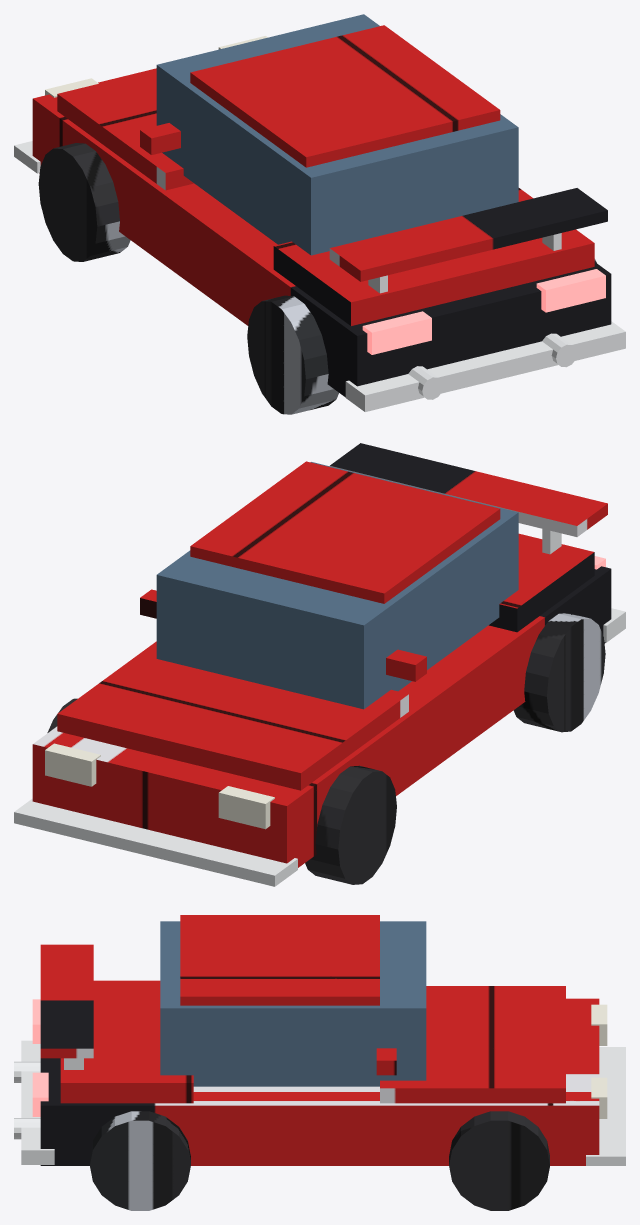
Rendered from Car.fbx.
3 renders of one model, top to bottom at view 1: azimuth 30°, elevation 25°; view 2: azimuth 150°, elevation 25°; view 3: azimuth 270°, elevation 25°, orthographic. The views are drawn at different scales.
Visible parts, largest first — view 1: Car; view 2: Car; view 3: Car.
Boxes of the visible parts, x1=… form: Car: x1=14, y1=14, x2=625, y2=414; Car: x1=14, y1=443, x2=625, y2=886; Car: x1=14, y1=915, x2=625, y2=1210.
Size of the model in its own units: 224 by 159 by 460.
6 materials, 2 textured.
